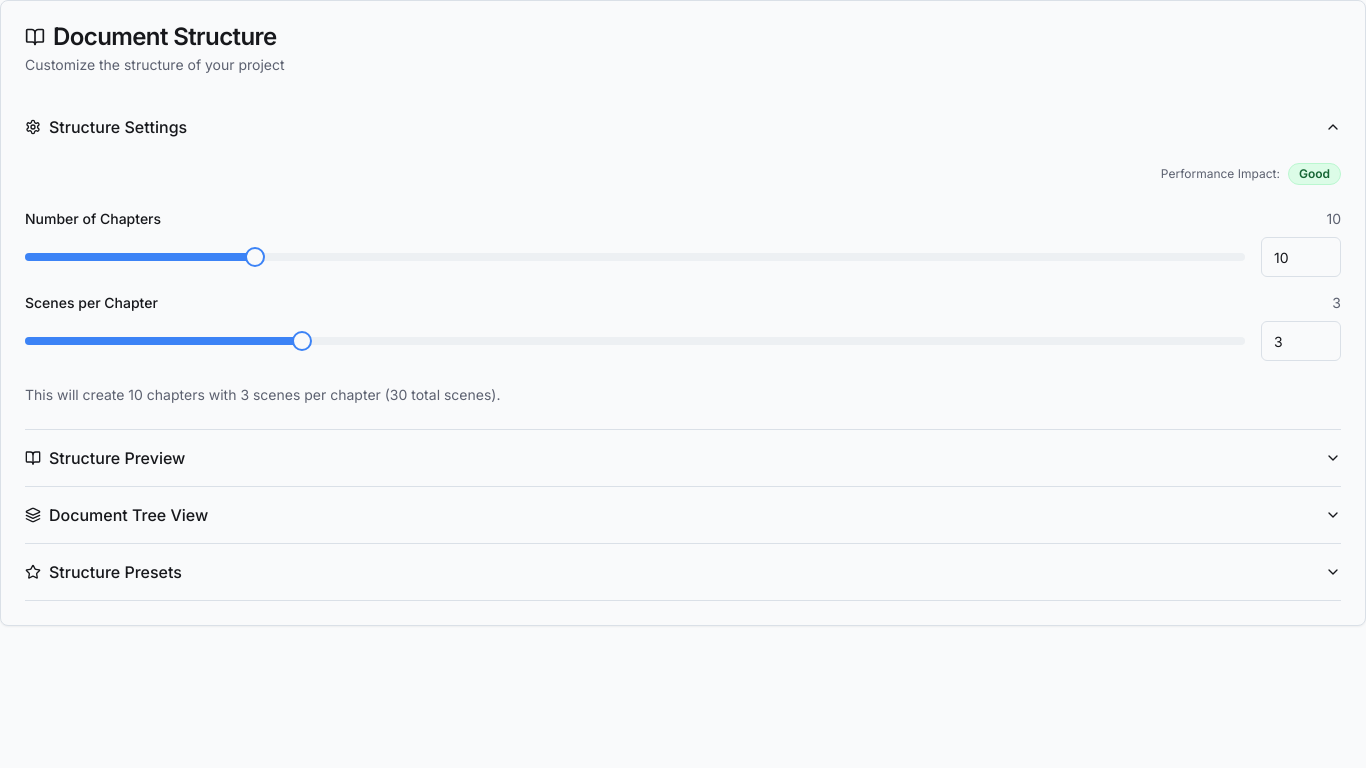
Scenario: DocumentStructureCustomizer › loads existing presets from localStorage
The image size is (1366, 768).
// Expand the presets accordion
Click the button "Structure Presets" at (115, 572), box [25, 544, 1341, 600]
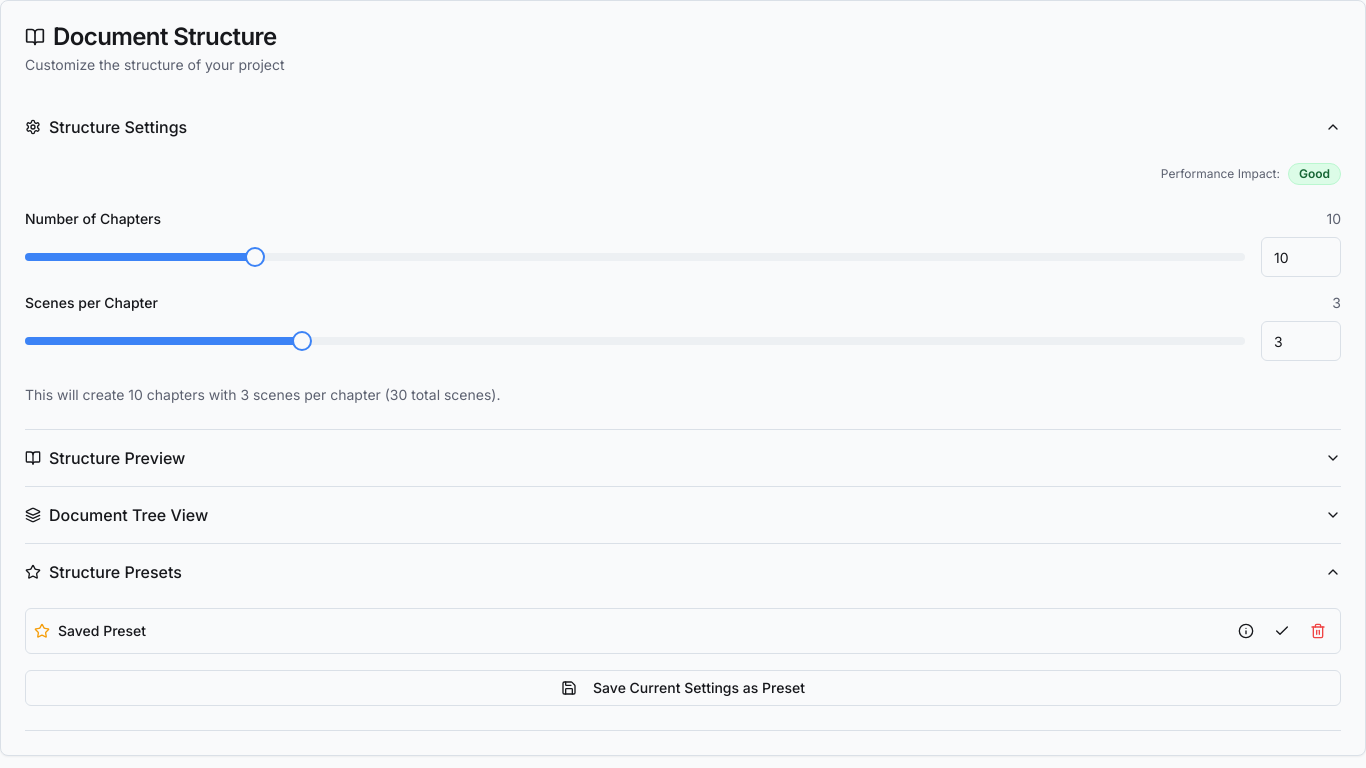
Now the text "Saved Preset" is shown, box [58, 621, 146, 641]
